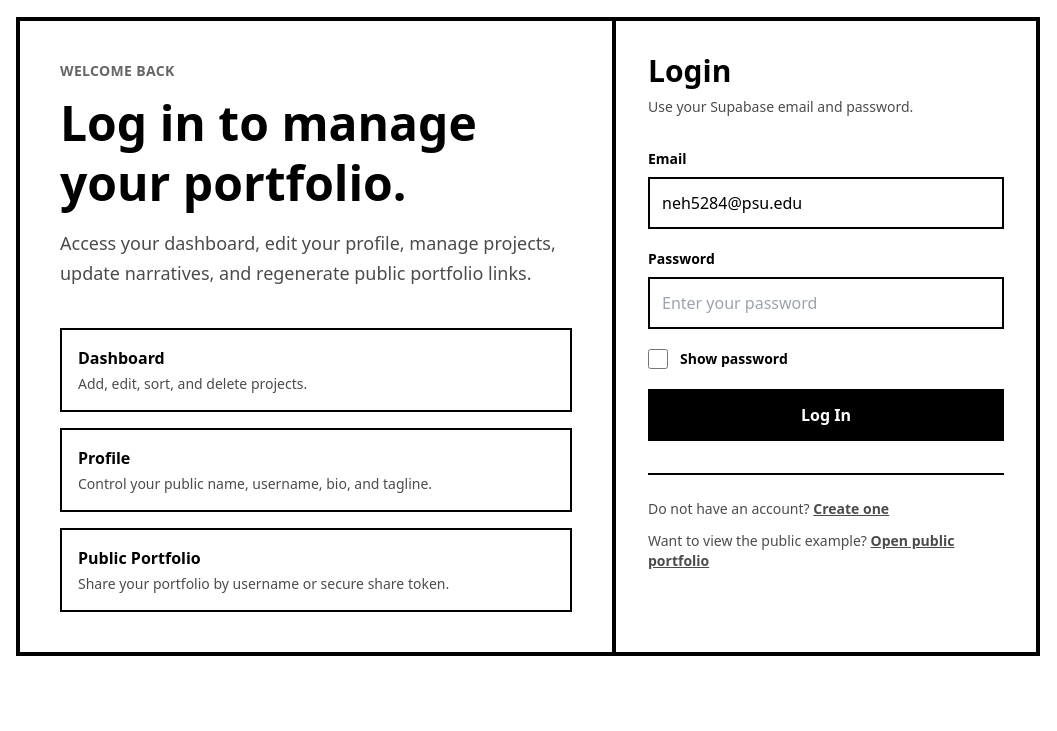
Test case: Login major features › shows a basic error result when login fails
Type "wrongpass" into the password field labelled "Password" at (826, 303), box [648,277,1004,329]
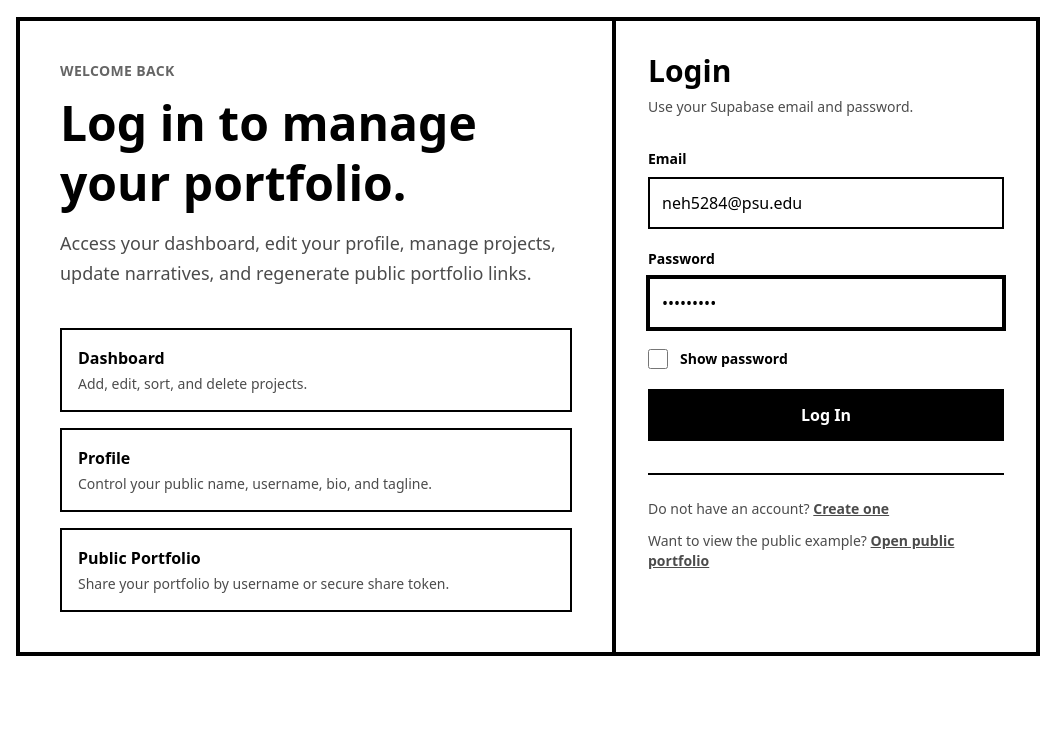
Click the button "Log In" at (826, 415), box [648,389,1004,441]
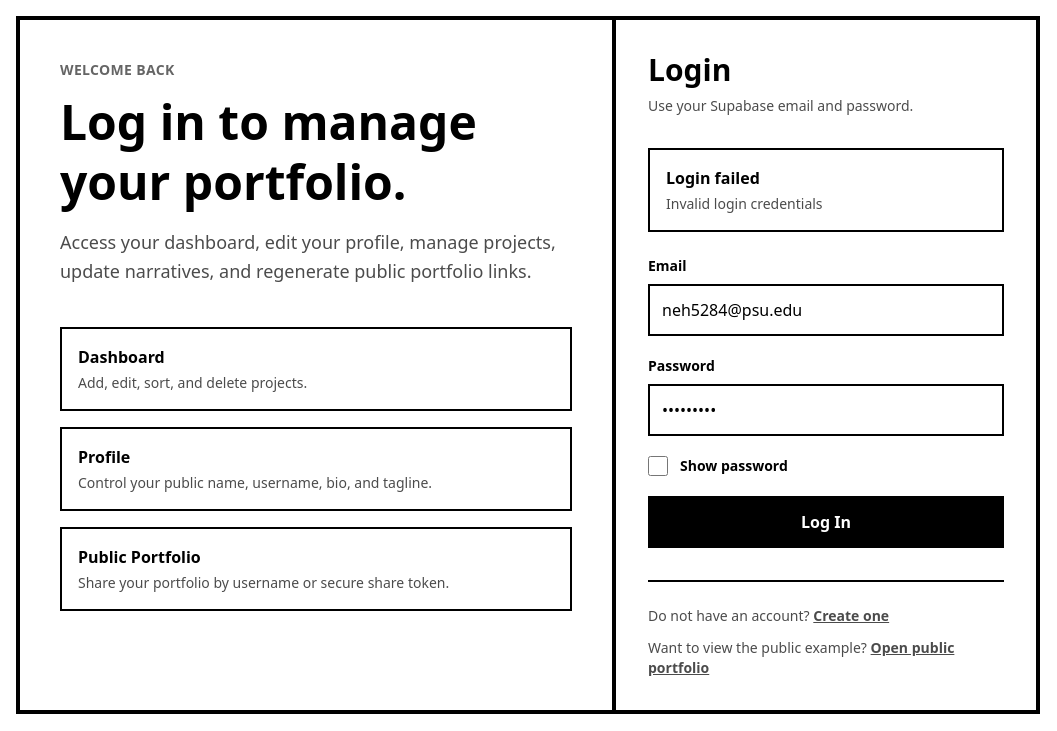
Expected: the text "Login failed" is shown, [666,167,760,189]
Expected: the text "Invalid login credentials" is shown, [666,194,823,213]
